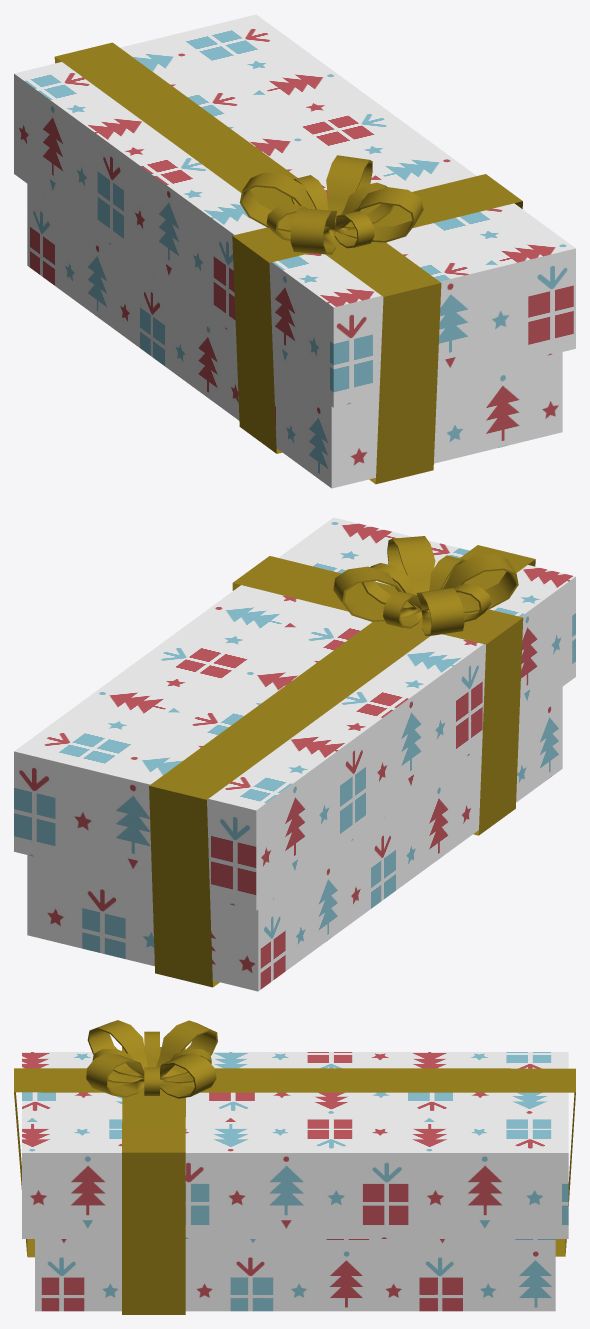
File: gift 05 ribbon02.fbx
The picture shows the model from 3 angles, top to bottom: view 1: azimuth 30°, elevation 25°; view 2: azimuth 150°, elevation 25°; view 3: azimuth 270°, elevation 25°; orthographic projection. The views are drawn at different scales.
Parts seen in each view (by area): view 1: gift, ribbon_02, Gift05; view 2: gift, ribbon_02, Gift05; view 3: gift, ribbon_02, Gift05.
Boxes of the visible parts, x1,y1,x2,y2 form: gift: (14,14,575,488); ribbon_02: (54,42,522,484); Gift05: (239,155,423,254); gift: (14,517,575,991); ribbon_02: (149,545,535,987); Gift05: (333,536,518,635); gift: (22,1052,568,1311); ribbon_02: (14,1047,575,1314); Gift05: (86,1020,217,1098).
Size of the model in its own units: 14.87 by 13.27 by 33.38.
2 materials, 1 textured.
